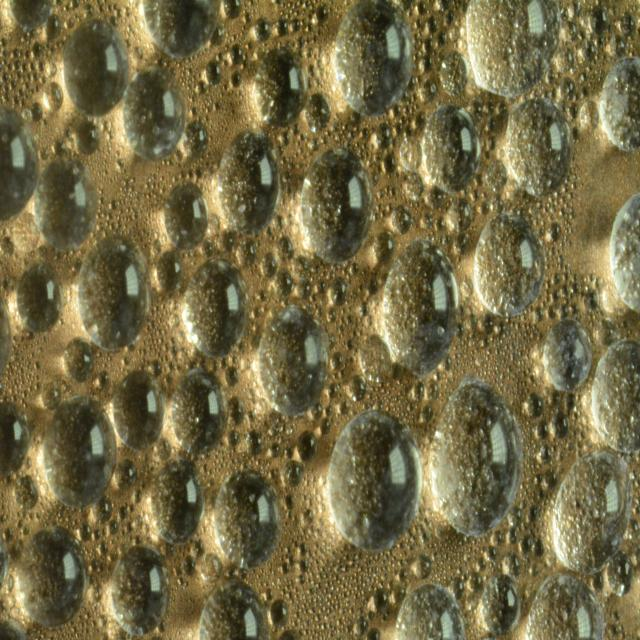dr: (428, 374, 524, 538), (328, 408, 422, 552), (382, 238, 459, 379), (554, 448, 633, 576), (75, 233, 153, 353), (334, 1, 414, 115), (466, 0, 562, 95), (300, 147, 372, 263), (258, 308, 332, 414), (474, 212, 548, 318), (45, 395, 116, 505), (19, 526, 90, 631), (211, 468, 283, 570), (506, 97, 573, 200), (184, 256, 250, 359), (216, 131, 280, 231), (32, 156, 98, 252), (64, 21, 129, 118), (123, 67, 186, 161), (110, 543, 172, 636), (592, 339, 640, 451), (422, 104, 481, 193), (526, 573, 604, 640), (171, 367, 229, 454), (150, 458, 206, 548), (141, 0, 220, 60), (0, 106, 38, 224), (199, 581, 272, 640), (114, 370, 167, 449), (254, 51, 308, 127), (394, 583, 466, 640), (600, 56, 640, 154), (610, 191, 640, 315), (542, 320, 591, 392), (16, 264, 64, 334), (162, 182, 209, 250), (479, 572, 522, 635), (1, 403, 29, 478), (358, 336, 393, 382), (439, 51, 469, 96), (64, 338, 93, 382), (158, 250, 185, 294), (608, 551, 634, 596), (11, 0, 54, 26), (446, 198, 473, 236), (305, 94, 332, 130), (484, 158, 509, 194), (76, 120, 100, 156), (400, 136, 423, 172), (0, 301, 10, 382), (184, 123, 207, 158), (16, 474, 38, 508), (115, 460, 138, 492), (372, 232, 396, 262), (200, 552, 222, 584), (296, 431, 318, 462), (589, 5, 609, 39), (270, 598, 290, 631), (391, 204, 411, 237), (237, 237, 258, 268), (0, 618, 29, 640), (43, 82, 64, 112), (40, 379, 61, 409), (580, 100, 599, 132), (284, 459, 304, 489), (498, 506, 523, 530), (404, 172, 424, 201), (276, 266, 294, 297), (331, 276, 349, 307), (576, 41, 597, 67), (226, 396, 244, 426), (247, 427, 265, 456), (551, 411, 569, 440), (412, 553, 432, 579), (524, 392, 544, 418), (624, 520, 640, 552), (94, 498, 115, 522), (217, 230, 236, 256), (376, 120, 392, 150), (277, 236, 294, 264), (504, 549, 521, 577), (349, 376, 367, 402), (426, 186, 444, 212), (597, 319, 615, 344), (408, 380, 425, 406), (206, 59, 222, 86), (261, 252, 277, 279), (557, 48, 574, 73), (254, 18, 272, 41), (182, 553, 198, 578), (620, 11, 636, 36), (222, 0, 243, 19), (372, 588, 390, 610), (608, 35, 626, 57), (0, 534, 7, 590), (210, 24, 227, 46), (583, 290, 600, 312), (420, 81, 437, 103), (542, 468, 558, 491), (560, 78, 576, 101), (450, 577, 466, 599), (297, 279, 313, 300), (561, 23, 577, 44), (46, 17, 61, 39), (455, 233, 469, 256), (489, 192, 505, 212), (468, 572, 483, 593), (536, 418, 550, 440), (274, 17, 290, 36), (547, 223, 563, 242), (461, 277, 474, 300), (226, 366, 240, 387), (230, 43, 243, 65), (1, 236, 14, 258), (421, 210, 434, 232), (548, 390, 562, 410), (227, 429, 240, 450), (383, 154, 398, 172), (525, 504, 539, 523), (540, 442, 552, 464), (426, 378, 438, 400), (421, 402, 434, 422), (347, 109, 362, 126), (315, 5, 329, 23), (393, 585, 407, 603), (565, 394, 577, 415), (464, 316, 478, 334), (482, 312, 494, 333), (338, 396, 351, 415), (533, 537, 544, 559), (520, 535, 532, 555), (424, 35, 436, 55), (448, 24, 460, 44), (567, 100, 579, 120), (266, 424, 280, 441), (79, 522, 92, 540), (318, 418, 331, 436), (355, 616, 368, 634), (570, 0, 582, 19), (466, 594, 480, 610), (490, 531, 504, 547), (482, 547, 498, 561), (387, 365, 401, 381), (332, 352, 343, 372), (422, 54, 434, 72), (509, 180, 520, 199), (366, 627, 382, 640), (507, 527, 519, 544), (440, 355, 452, 372), (202, 240, 213, 258), (8, 543, 19, 561), (193, 540, 204, 558), (279, 629, 297, 640), (312, 402, 323, 420), (367, 276, 378, 294), (282, 212, 293, 230), (427, 15, 438, 33), (433, 0, 451, 11), (53, 140, 65, 156), (195, 79, 207, 95), (150, 359, 162, 375), (108, 518, 120, 534), (302, 509, 314, 525), (269, 443, 281, 459), (476, 332, 488, 348), (32, 102, 42, 121), (99, 368, 109, 387), (497, 100, 507, 119), (32, 42, 43, 59), (230, 71, 241, 88), (94, 582, 103, 602), (234, 566, 246, 581), (280, 131, 291, 147), (70, 258, 81, 274), (3, 527, 14, 543), (434, 523, 445, 539), (285, 493, 295, 510), (132, 44, 142, 61), (316, 279, 327, 294), (397, 1, 415, 10), (534, 306, 544, 322), (558, 303, 568, 319), (360, 300, 370, 316), (414, 111, 424, 127), (406, 76, 416, 92), (436, 30, 446, 46), (486, 136, 498, 149), (416, 2, 428, 15), (284, 445, 295, 459), (435, 215, 444, 232), (487, 115, 496, 132), (445, 10, 454, 27), (151, 239, 161, 254), (295, 33, 305, 48), (496, 321, 506, 336), (360, 128, 370, 143), (133, 488, 142, 504), (546, 68, 555, 84), (83, 5, 94, 18), (528, 205, 539, 218), (310, 137, 321, 150), (22, 109, 32, 123), (170, 314, 180, 328), (90, 559, 100, 573), (528, 564, 538, 578), (397, 570, 408, 582), (504, 94, 516, 105), (258, 289, 268, 302), (532, 474, 542, 487), (391, 105, 401, 118), (100, 540, 108, 556), (226, 568, 234, 584), (329, 382, 337, 398), (456, 322, 464, 338), (328, 308, 336, 324), (572, 126, 580, 142), (119, 506, 128, 520), (478, 558, 487, 572), (350, 262, 359, 276), (287, 156, 296, 170), (394, 121, 403, 135), (47, 64, 57, 76), (246, 410, 256, 422), (374, 401, 384, 413), (470, 190, 480, 202), (484, 102, 494, 114), (7, 574, 14, 591), (40, 146, 49, 159), (108, 198, 117, 211), (292, 123, 301, 136), (109, 549, 118, 562), (610, 624, 619, 637), (283, 170, 292, 183), (356, 147, 365, 160), (331, 122, 340, 135), (306, 46, 315, 59), (560, 8, 569, 21), (578, 29, 587, 42), (292, 18, 300, 32), (158, 618, 166, 632), (300, 558, 308, 572), (300, 542, 308, 556), (421, 531, 429, 545), (548, 303, 556, 317), (528, 372, 536, 386), (308, 64, 316, 78), (186, 360, 197, 370), (520, 521, 530, 532), (558, 99, 568, 110), (189, 106, 198, 118), (552, 273, 561, 285), (481, 202, 490, 214), (322, 53, 331, 65), (213, 100, 221, 113), (464, 533, 472, 546), (556, 449, 564, 462), (156, 57, 164, 70), (345, 340, 355, 350), (26, 330, 36, 340), (110, 17, 120, 27), (2, 277, 9, 291), (553, 288, 560, 302), (372, 173, 379, 187), (68, 138, 76, 150), (116, 157, 124, 169), (253, 304, 261, 316), (93, 528, 101, 540), (282, 562, 290, 574), (612, 610, 620, 622), (329, 334, 337, 346), (476, 175, 484, 187), (582, 86, 590, 98), (580, 71, 588, 83), (530, 88, 538, 100), (196, 167, 203, 180), (432, 550, 439, 563), (176, 567, 185, 577), (333, 133, 342, 143), (368, 610, 376, 621), (566, 441, 574, 452), (464, 552, 472, 563), (401, 91, 409, 102), (344, 137, 352, 148), (342, 123, 350, 134), (610, 6, 618, 17), (68, 16, 75, 28), (102, 120, 109, 132), (630, 470, 637, 482), (366, 314, 373, 326), (316, 306, 323, 318), (292, 224, 299, 236), (373, 152, 382, 161), (0, 37, 8, 47), (199, 357, 207, 367), (16, 520, 24, 530), (288, 556, 296, 566), (298, 574, 306, 584), (247, 388, 255, 398), (576, 439, 584, 449), (561, 286, 569, 296), (571, 303, 579, 313), (310, 292, 318, 302), (349, 129, 357, 139), (460, 40, 468, 50), (10, 78, 17, 89), (166, 372, 173, 383), (280, 422, 287, 433), (320, 474, 327, 485), (543, 385, 550, 396), (498, 148, 505, 159), (378, 189, 385, 200), (123, 356, 130, 367), (13, 61, 21, 70), (171, 299, 177, 311), (178, 576, 184, 588), (306, 498, 314, 507), (319, 502, 325, 514), (314, 614, 322, 623), (460, 305, 466, 317), (483, 150, 491, 159), (389, 188, 397, 197), (284, 186, 292, 195), (586, 63, 594, 72), (12, 48, 19, 58), (22, 63, 29, 73), (39, 62, 46, 72), (245, 12, 252, 22), (23, 526, 30, 536), (99, 562, 106, 572), (336, 564, 343, 574), (576, 447, 583, 457), (545, 279, 552, 289), (444, 236, 451, 246), (548, 246, 555, 256), (322, 135, 329, 145), (107, 130, 113, 141), (171, 346, 177, 357), (326, 403, 332, 414), (634, 504, 640, 515), (560, 207, 566, 218), (18, 88, 26, 96), (72, 0, 80, 8), (62, 129, 70, 137), (362, 403, 370, 411), (474, 358, 482, 366), (460, 189, 468, 197), (554, 189, 562, 197), (548, 193, 556, 201), (105, 213, 114, 220), (135, 535, 142, 544), (317, 518, 324, 527), (357, 606, 364, 615), (407, 543, 414, 552), (572, 283, 579, 292), (572, 273, 579, 282), (509, 353, 516, 362), (385, 205, 394, 212), (404, 105, 411, 114), (366, 158, 373, 167), (416, 19, 423, 28), (0, 514, 5, 526), (350, 559, 356, 569), (389, 579, 395, 589), (585, 439, 591, 449), (564, 271, 570, 281), (406, 125, 412, 135), (300, 132, 306, 142), (600, 37, 605, 49), (4, 93, 11, 101), (323, 614, 330, 622), (593, 278, 600, 286), (456, 568, 463, 576), (557, 255, 564, 263), (407, 9, 414, 17), (279, 146, 284, 157), (635, 478, 640, 489), (30, 62, 36, 71), (22, 389, 28, 398), (633, 547, 639, 556), (588, 272, 594, 281), (376, 204, 382, 213), (394, 170, 400, 179), (412, 61, 418, 70), (595, 0, 604, 6), (563, 184, 569, 193), (12, 352, 18, 361), (637, 19, 640, 36), (188, 167, 193, 177), (222, 358, 227, 368), (309, 586, 314, 596), (344, 564, 349, 574), (581, 431, 586, 441), (507, 365, 512, 375), (551, 88, 556, 98), (3, 396, 10, 403), (317, 582, 324, 589), (373, 215, 380, 222), (4, 83, 10, 91), (2, 73, 8, 81), (42, 118, 48, 126), (100, 197, 106, 205), (273, 0, 281, 6), (23, 257, 29, 265), (34, 361, 40, 369), (168, 361, 174, 369), (212, 362, 218, 370), (34, 512, 40, 520), (298, 628, 304, 636), (352, 408, 358, 416), (326, 580, 332, 588), (323, 588, 329, 596), (382, 612, 388, 620), (381, 558, 387, 566), (349, 606, 355, 614), (558, 465, 564, 473), (347, 316, 353, 324), (538, 200, 544, 208), (548, 214, 554, 222), (307, 79, 313, 87), (570, 66, 576, 74), (543, 90, 549, 98), (38, 346, 44, 354), (99, 4, 105, 12), (127, 523, 132, 532), (294, 513, 299, 522), (398, 559, 403, 568), (408, 529, 413, 538), (374, 297, 379, 306), (594, 38, 599, 47), (125, 8, 130, 17), (14, 97, 20, 104), (20, 98, 26, 105), (34, 85, 40, 92), (40, 77, 46, 84), (65, 4, 71, 11), (161, 185, 167, 192), (139, 364, 145, 371), (208, 479, 214, 486), (328, 592, 334, 599), (337, 618, 343, 625), (536, 491, 542, 498), (486, 347, 492, 354), (515, 322, 521, 329), (618, 332, 624, 339), (551, 205, 557, 212), (510, 206, 517, 212), (381, 211, 387, 218), (344, 0, 351, 6), (572, 183, 578, 190), (565, 176, 571, 183), (572, 173, 578, 180), (12, 335, 18, 342), (12, 395, 17, 403), (165, 354, 170, 362), (156, 328, 161, 336), (73, 518, 78, 526), (282, 588, 287, 596), (294, 620, 299, 628), (280, 435, 285, 443), (303, 494, 308, 502), (318, 494, 323, 502), (322, 622, 327, 630), (369, 584, 374, 592), (542, 560, 547, 568), (521, 314, 526, 322), (541, 300, 546, 308), (411, 216, 416, 224), (392, 138, 397, 146), (294, 150, 299, 158), (461, 5, 466, 13), (575, 90, 579, 100), (166, 61, 171, 69), (56, 0, 62, 6), (110, 222, 116, 228), (151, 182, 157, 188), (306, 26, 312, 32), (299, 0, 305, 6), (305, 0, 311, 6), (22, 402, 28, 408), (28, 384, 32, 393), (202, 465, 206, 474), (130, 503, 134, 512), (316, 530, 322, 536), (320, 606, 326, 612), (382, 574, 388, 580), (331, 585, 337, 591), (328, 574, 334, 580), (348, 622, 354, 628), (399, 542, 405, 548), (494, 349, 500, 355), (538, 332, 542, 341), (500, 373, 506, 379), (546, 261, 550, 270), (522, 94, 528, 100), (18, 50, 23, 57), (61, 37, 66, 44), (98, 223, 103, 230), (104, 230, 109, 237), (243, 61, 248, 68), (67, 515, 72, 522), (29, 513, 34, 520), (368, 392, 373, 399), (341, 369, 346, 376), (305, 620, 310, 627), (327, 607, 332, 614), (386, 609, 391, 616), (346, 625, 351, 632), (489, 561, 494, 568), (497, 563, 502, 570), (546, 295, 551, 302), (521, 359, 526, 366), (414, 103, 419, 110), (417, 75, 422, 82), (299, 146, 304, 153), (26, 82, 30, 90), (308, 13, 312, 21), (300, 51, 304, 59), (60, 317, 64, 325), (36, 383, 40, 391), (32, 422, 36, 430), (164, 344, 168, 352), (152, 320, 156, 328), (264, 304, 268, 312), (288, 510, 292, 518), (306, 479, 310, 487), (312, 475, 316, 483), (329, 621, 333, 629), (444, 552, 448, 560), (622, 630, 626, 638), (621, 622, 625, 630), (526, 555, 530, 563), (584, 414, 588, 422), (464, 570, 468, 578), (568, 226, 572, 234), (316, 77, 320, 85), (608, 25, 612, 33), (562, 196, 566, 204), (2, 51, 7, 57), (7, 65, 12, 71), (23, 76, 28, 82), (172, 176, 178, 181), (248, 43, 253, 49), (14, 253, 19, 259), (5, 376, 10, 382), (19, 375, 24, 381), (34, 375, 40, 380), (19, 368, 24, 374), (158, 339, 163, 345), (171, 337, 176, 343), (177, 364, 182, 370), (207, 470, 212, 476), (288, 428, 293, 434), (293, 542, 298, 548), (314, 542, 319, 548), (331, 604, 336, 610), (342, 592, 347, 598), (354, 578, 359, 584), (361, 589, 366, 595), (313, 597, 319, 602), (459, 540, 464, 546), (541, 572, 547, 577), (529, 306, 534, 312), (622, 321, 628, 326), (530, 332, 535, 338), (505, 382, 508, 392), (339, 326, 344, 332), (341, 309, 346, 315), (358, 286, 363, 292), (394, 396, 399, 402), (570, 213, 575, 219), (563, 236, 568, 242), (327, 130, 332, 136), (313, 36, 318, 42), (632, 50, 637, 56), (117, 10, 122, 16), (18, 71, 22, 78), (133, 211, 137, 218), (124, 179, 128, 186), (181, 171, 185, 178), (210, 167, 214, 174), (10, 387, 14, 394), (289, 591, 293, 598), (252, 398, 256, 405), (311, 525, 315, 532), (286, 546, 290, 553), (312, 607, 316, 614), (336, 594, 340, 601), (449, 563, 453, 570), (429, 533, 433, 540), (520, 483, 524, 490), (534, 383, 538, 390), (402, 116, 406, 123), (365, 149, 369, 156), (414, 34, 418, 41), (637, 496, 640, 505), (242, 25, 247, 30), (355, 586, 360, 591), (373, 572, 378, 577), (564, 220, 569, 225), (0, 63, 3, 71), (3, 58, 7, 64), (28, 74, 32, 80), (56, 42, 60, 48), (126, 206, 130, 212), (232, 34, 236, 40), (293, 4, 297, 10), (301, 18, 305, 24), (205, 116, 209, 122), (102, 528, 106, 534), (296, 611, 300, 617), (314, 508, 318, 514), (329, 631, 333, 637), (304, 609, 308, 615), (313, 629, 317, 635), (322, 566, 326, 572), (337, 604, 341, 610), (341, 608, 345, 614), (308, 577, 312, 583), (312, 578, 316, 584), (346, 602, 352, 606), (448, 556, 452, 562), (413, 534, 417, 540), (446, 534, 450, 540), (492, 566, 496, 572), (597, 443, 601, 449), (353, 330, 356, 338), (346, 300, 350, 306), (416, 44, 420, 50), (626, 47, 630, 53), (556, 197, 560, 203), (570, 207, 574, 213), (6, 368, 10, 374), (8, 362, 12, 368), (11, 285, 14, 292), (444, 569, 447, 576), (26, 53, 30, 58), (31, 89, 35, 94), (34, 74, 38, 79), (51, 47, 55, 52), (106, 170, 110, 175), (124, 223, 128, 228), (127, 217, 132, 221), (146, 194, 150, 199), (244, 53, 248, 58), (288, 3, 293, 7), (37, 636, 42, 640), (337, 636, 342, 640), (310, 635, 314, 640), (316, 635, 320, 640), (317, 631, 321, 636), (332, 616, 337, 620), (347, 591, 351, 596), (354, 594, 358, 599), (366, 578, 371, 582), (371, 578, 376, 582), (341, 583, 345, 588), (342, 576, 347, 580), (324, 573, 328, 578), (328, 601, 332, 606), (337, 629, 341, 634), (450, 572, 454, 577), (449, 539, 453, 544), (518, 351, 522, 356), (454, 354, 458, 359), (360, 331, 364, 336), (342, 363, 346, 368), (519, 210, 523, 215), (13, 380, 18, 384), (15, 365, 19, 370), (118, 221, 121, 227), (130, 187, 133, 193), (207, 107, 210, 113), (21, 399, 24, 405), (334, 373, 337, 379), (309, 550, 312, 556), (438, 577, 441, 583), (575, 413, 578, 419), (415, 54, 418, 60), (290, 9, 294, 13), (296, 10, 300, 14), (43, 634, 47, 638), (51, 636, 55, 640), (308, 629, 312, 633), (337, 587, 341, 591), (314, 604, 318, 608), (434, 568, 438, 572), (486, 356, 490, 360), (625, 335, 629, 339), (456, 1, 460, 5), (46, 44, 49, 49), (111, 123, 114, 128), (122, 199, 125, 204), (185, 581, 188, 586), (336, 414, 339, 419), (310, 598, 313, 603), (324, 635, 327, 640), (357, 563, 360, 568), (365, 599, 368, 604), (440, 570, 443, 575), (494, 561, 497, 566), (586, 426, 589, 431), (525, 308, 528, 313), (617, 324, 620, 329), (318, 29, 321, 34), (632, 42, 635, 47), (566, 202, 569, 207), (286, 553, 288, 560), (281, 11, 284, 15), (287, 14, 290, 18), (157, 353, 160, 357), (305, 630, 308, 634), (318, 624, 321, 628), (362, 566, 364, 572), (325, 598, 328, 602), (352, 590, 355, 594), (338, 580, 341, 584), (430, 544, 433, 548), (454, 546, 458, 549), (444, 195, 447, 199), (408, 118, 411, 122), (334, 626, 336, 631), (351, 575, 353, 580), (630, 329, 632, 334), (443, 576, 446, 579), (454, 7, 457, 10), (22, 380, 24, 384), (312, 484, 314, 488), (436, 574, 438, 578), (433, 570, 435, 574), (459, 354, 461, 358), (332, 600, 334, 603), (350, 584, 352, 587), (441, 580, 443, 583), (448, 547, 450, 550), (451, 547, 453, 550), (453, 1, 455, 4), (433, 578, 435, 580), (444, 581, 446, 583), (439, 575, 440, 577)
